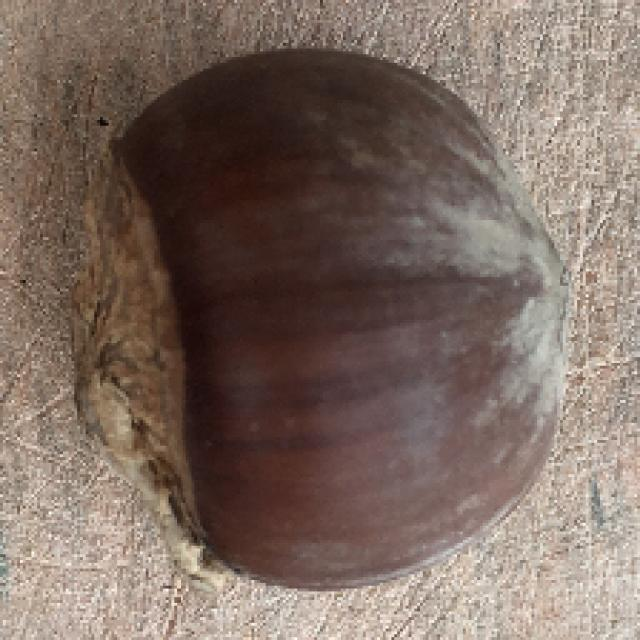damagedHazelnut: (74, 38, 588, 594)
